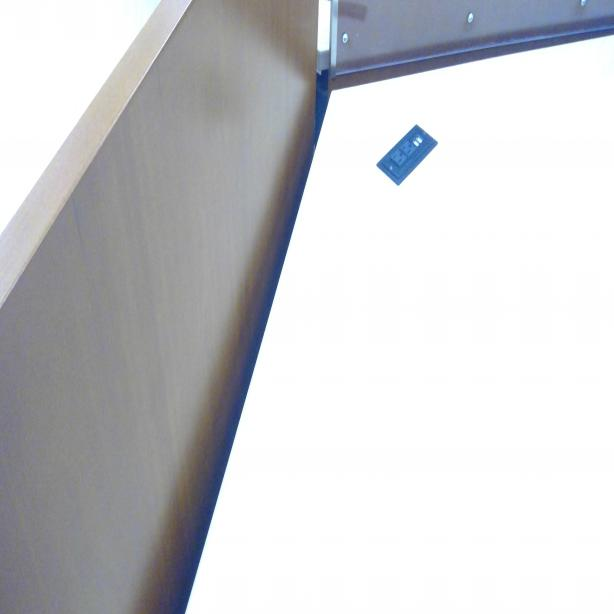typeb: (390, 150, 406, 170), (402, 141, 415, 157)
